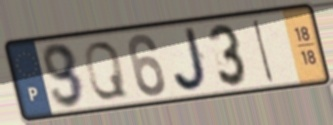3: (206, 21, 249, 89)
6: (126, 31, 167, 99)
9: (40, 40, 88, 110)
I: (250, 16, 276, 85)
J: (170, 24, 212, 94)
Q: (82, 39, 130, 102)
